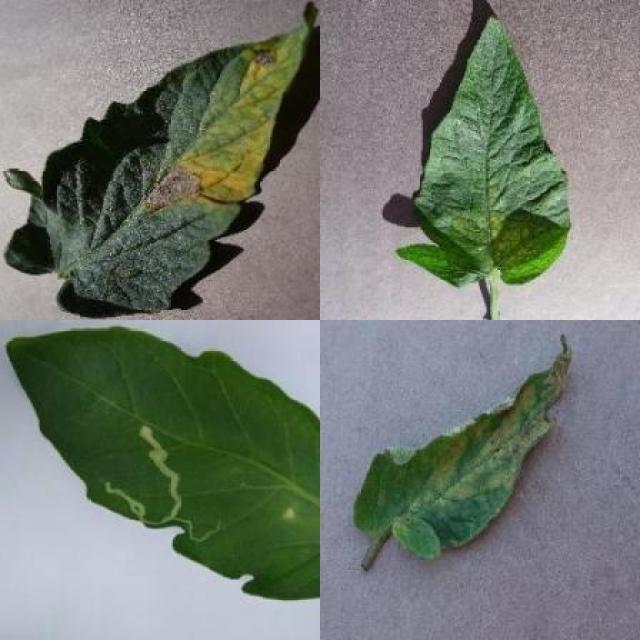Early Blight: (1, 7, 320, 312)
Leaf Miner: (6, 322, 320, 601)
Leaf Mold: (355, 334, 571, 560)
Spider Mites: (396, 12, 573, 287)
